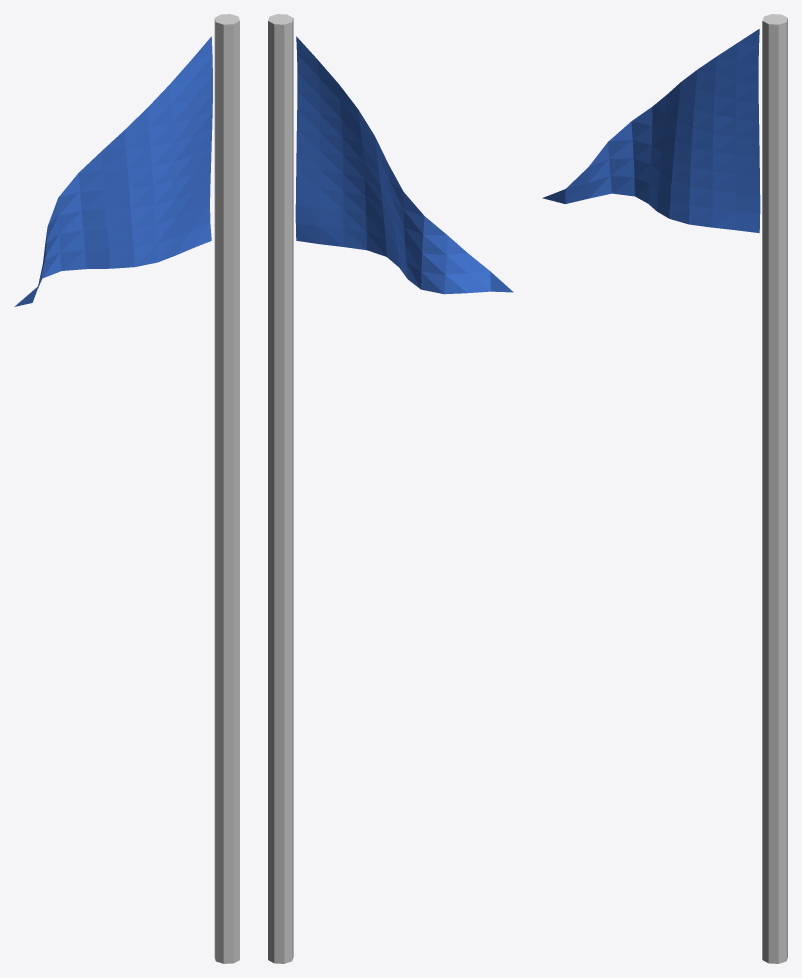
File: Flag2.glb
The picture shows the model from 3 angles, left to right: view 1: azimuth 30°, elevation 25°; view 2: azimuth 150°, elevation 25°; view 3: azimuth 330°, elevation 25°; orthographic projection.
Parts seen in each view (by area): view 1: Cylinder_001_6_0, Plane; view 2: Cylinder_001_6_0, Plane; view 3: Cylinder_001_6_0, Plane.
Part boxes in pixels (x1,y1,x2,y2): Cylinder_001_6_0: (214,14,239,963); Plane: (14,36,212,306); Cylinder_001_6_0: (268,14,293,963); Plane: (295,36,513,294); Cylinder_001_6_0: (762,14,787,963); Plane: (542,29,760,233).
Bounding box in the file's own units: 0.5681 × 2.17 × 0.0986.
